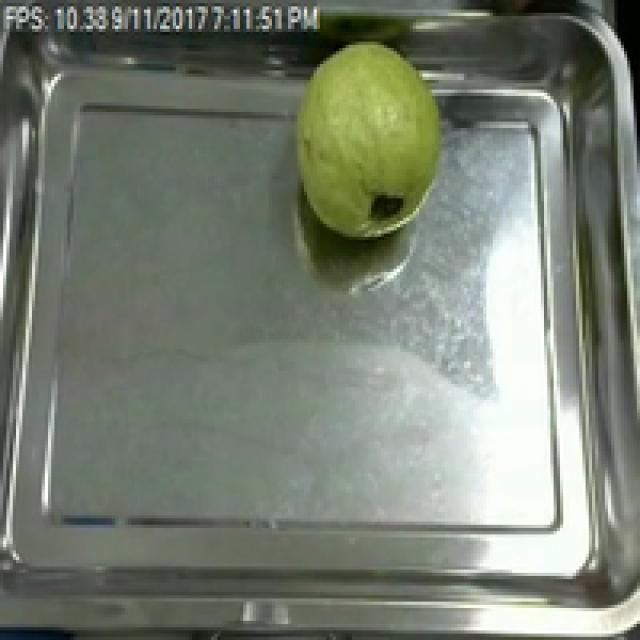Fruit: (278, 32, 454, 250)
